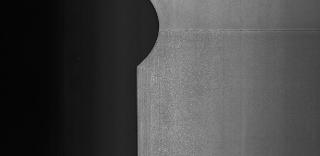welding line: (154, 26, 320, 36)
